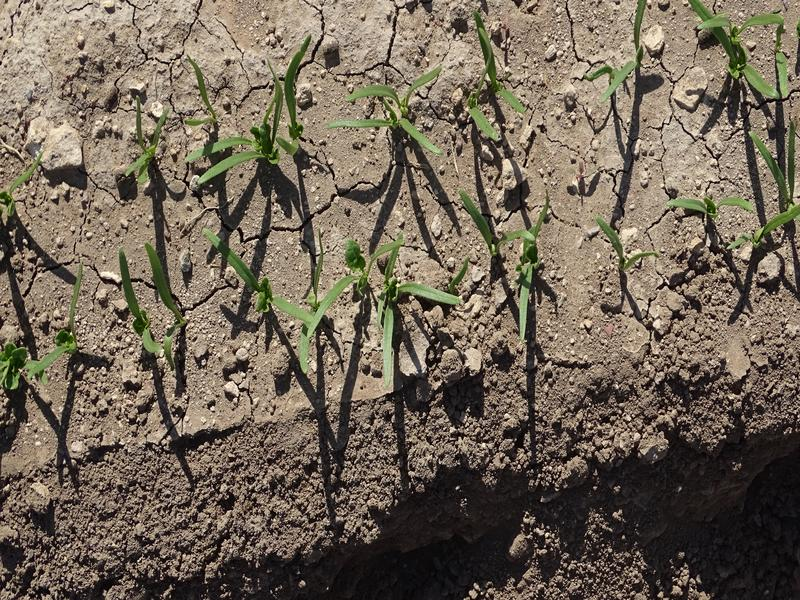Espinaca: (205, 234, 459, 387), (186, 34, 319, 184), (467, 185, 555, 338), (1, 263, 92, 384), (689, 1, 788, 103), (342, 68, 448, 159), (464, 15, 535, 142), (115, 239, 187, 356), (752, 117, 797, 257), (600, 4, 645, 100), (598, 218, 657, 267), (678, 193, 749, 224)
